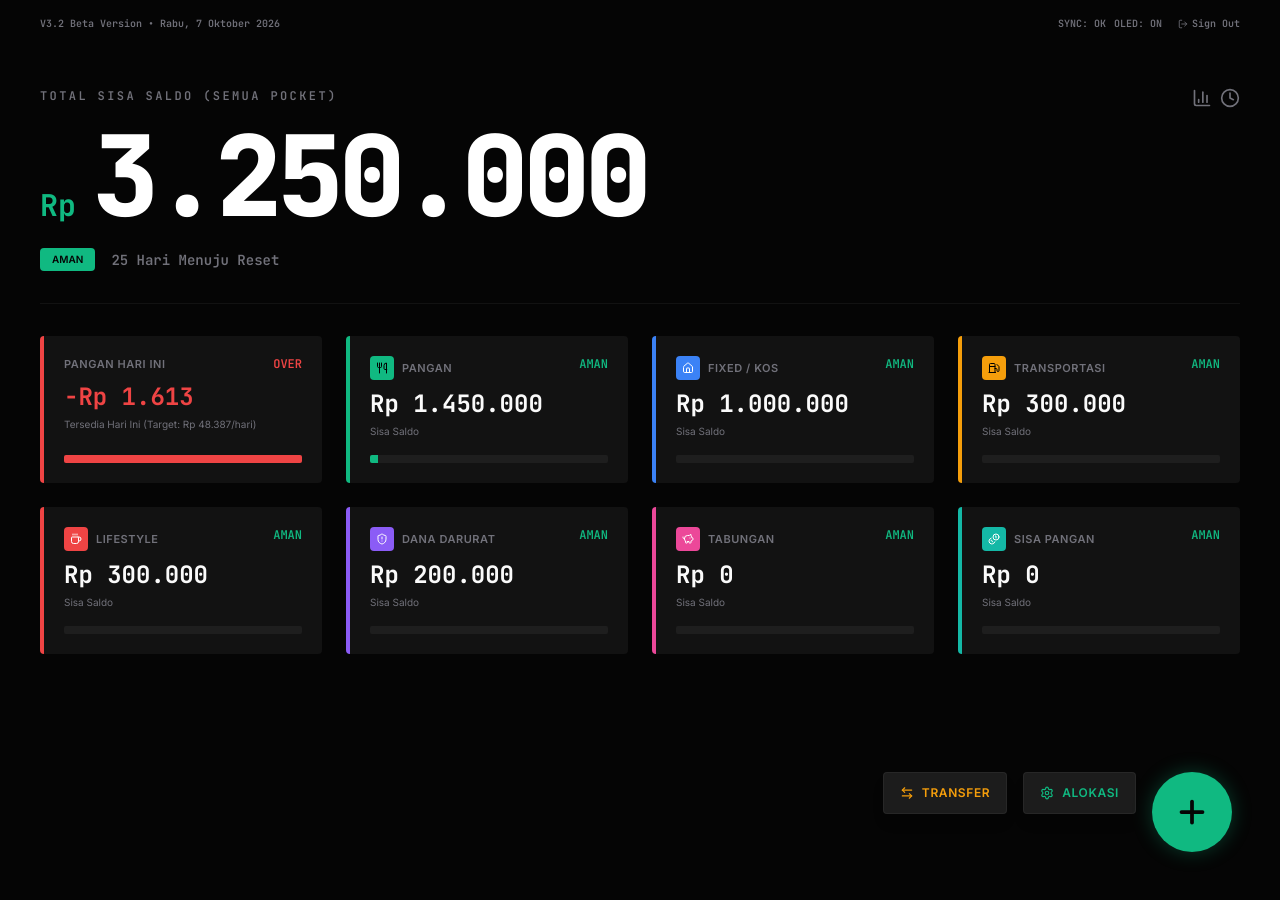
Test: App.vue › transaction history shows transactions when they exist
What coordinates should you click on to do the following:
click the button named "Tampilkan Riwayat"
I would click on:
 (1230, 98)
Its box is [1220,88,1240,108].
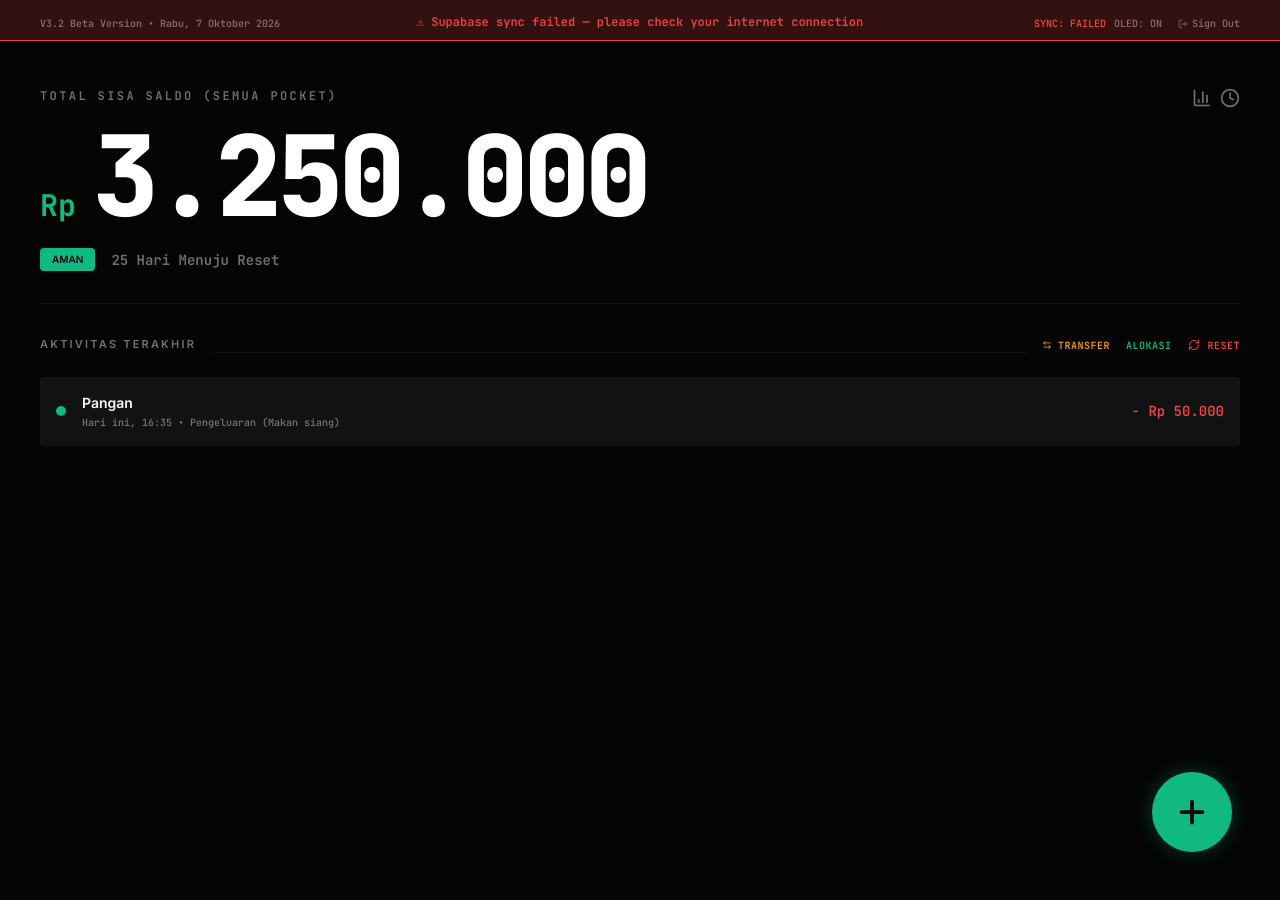
Expected: the text "Pangan" is shown, [82,394,133,410]
Result: the text "Makan siang" is shown at [190,416,340,428]
